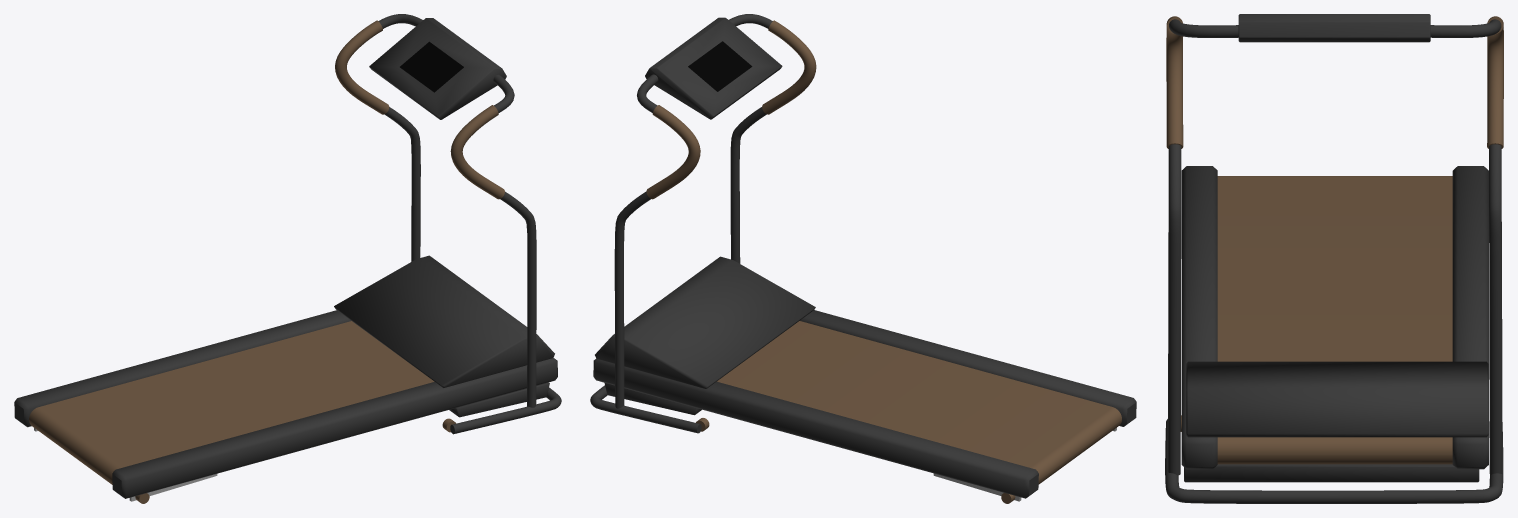
Rendered from treadmill.FBX.
3 views of the same model, side by side, from view 1: azimuth 30°, elevation 25°; view 2: azimuth 150°, elevation 25°; view 3: azimuth 270°, elevation 25° (orthographic). The views are drawn at different scales.
Visible parts, largest first — view 1: treadmill, ChamferBox001, Loft002, Loft001; view 2: treadmill, ChamferBox001, Loft002, Loft001; view 3: treadmill, ChamferBox001, Loft002, Loft001.
Boxes of the visible parts, x1=… form: treadmill: x1=14, y1=18, x2=557, y2=501; ChamferBox001: x1=29, y1=321, x2=434, y2=484; Loft002: x1=378, y1=14, x2=536, y2=407; Loft001: x1=450, y1=387, x2=561, y2=434; treadmill: x1=593, y1=17, x2=1136, y2=501; ChamferBox001: x1=717, y1=321, x2=1121, y2=484; Loft002: x1=614, y1=14, x2=772, y2=408; Loft001: x1=590, y1=385, x2=701, y2=433; treadmill: x1=1166, y1=14, x2=1503, y2=482; ChamferBox001: x1=1217, y1=176, x2=1452, y2=464; Loft002: x1=1168, y1=19, x2=1502, y2=475; Loft001: x1=1165, y1=419, x2=1503, y2=503.
Bounding box in the file's own units: 127 × 91.46 × 61.
